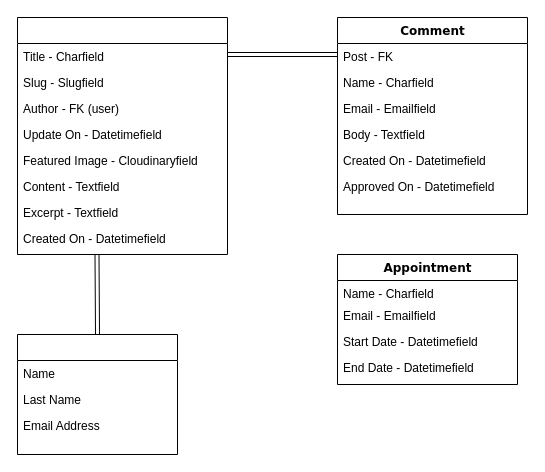
Some shapes in this 545 by 472 pixel diagram are drawn without their labels. The shapes that lost their labels are listed below. From the top down, each one's box as (x1, y1, x2, y2) in pixels, then its label:
(16, 16, 228, 254): Post
(16, 334, 178, 454): User
